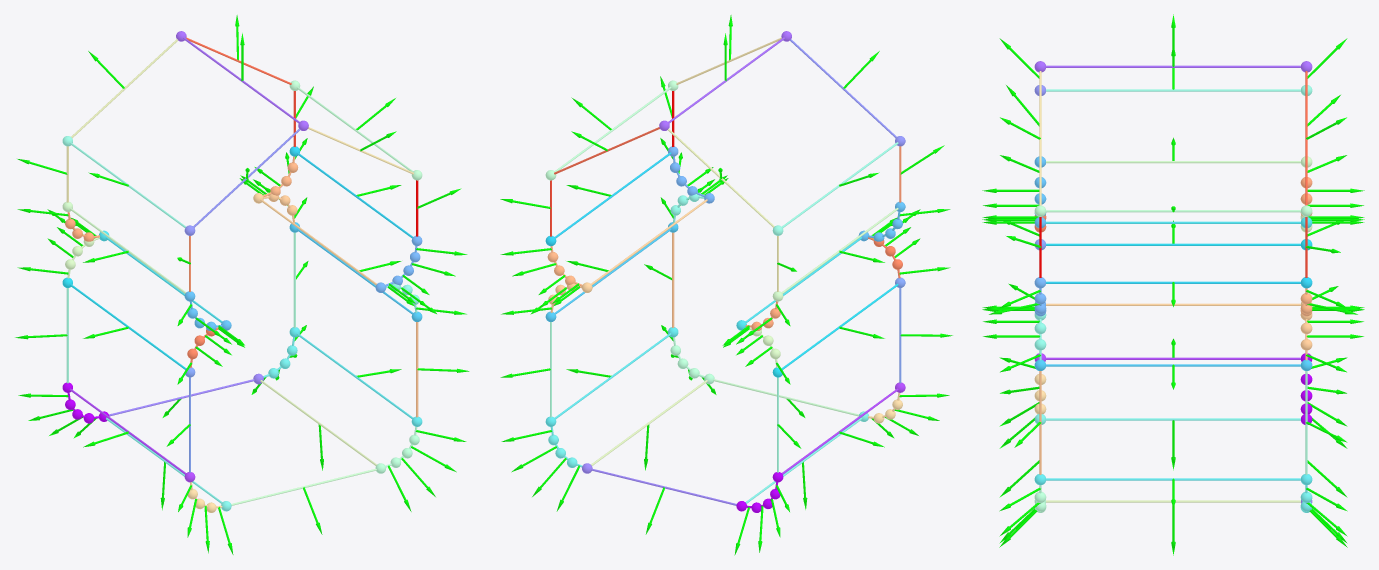
Rendered from onshape_house.gltf.
The picture shows the model from 3 angles, left to right: view 1: azimuth 30°, elevation 25°; view 2: azimuth 150°, elevation 25°; view 3: azimuth 270°, elevation 25°; orthographic projection. The views are drawn at different scales.
Size of the model in its own units: 0.6889 by 0.9435 by 0.6558.
